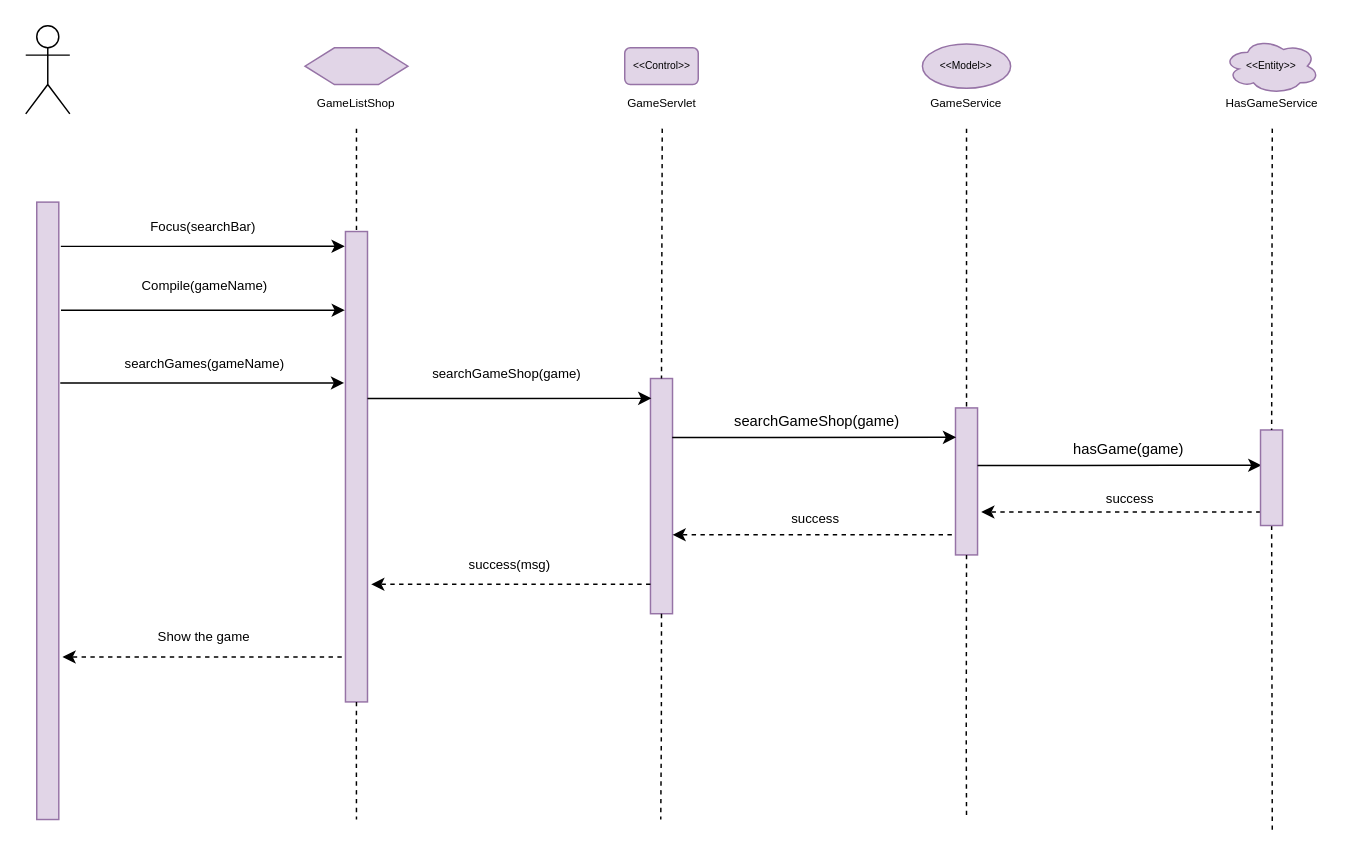
This 1345x861 diagram has some shape labels left out. The shapes that lost their labels are listed below. From the top down, each one's box as (x1, y1, x2, y2) in pixels, then its label:
(24, 24, 70, 114): Luigi
(304, 46, 408, 85): <<Boundary>>
